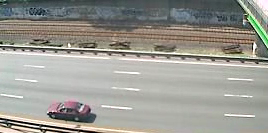car: (45, 98, 95, 122)
